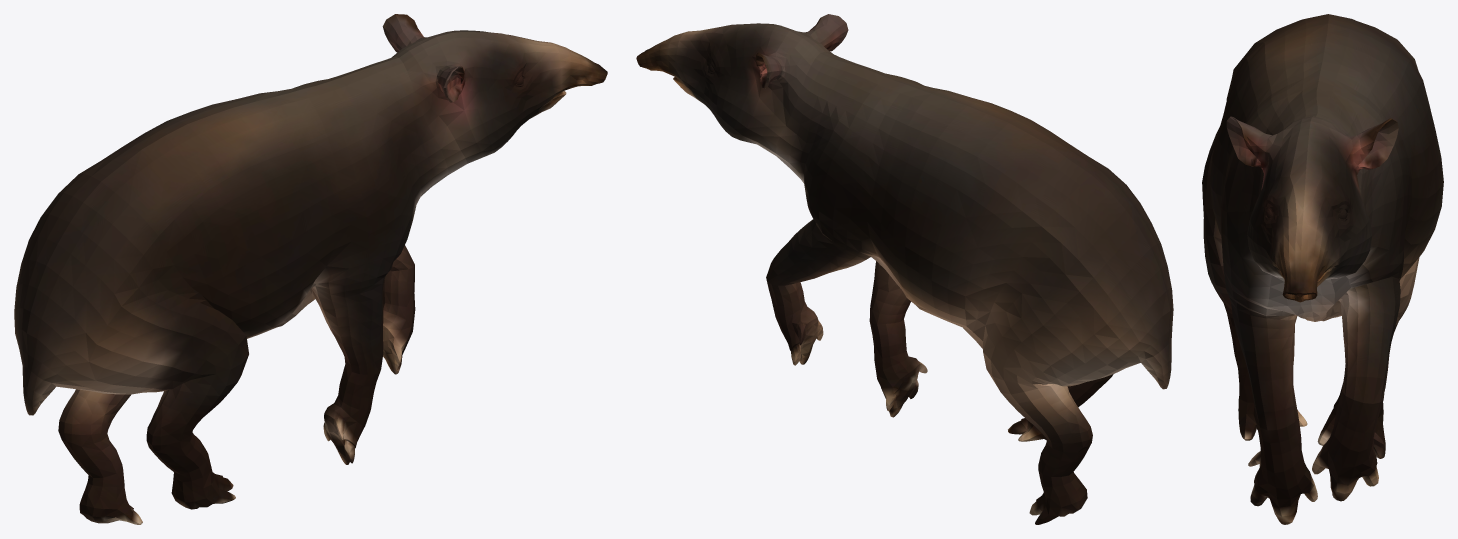
Rendered from The_female_bairds_tapir_swims_and_the_a2aa43eb31be.mesh.glb.
The picture shows the model from 3 angles, left to right: view 1: azimuth 30°, elevation 25°; view 2: azimuth 150°, elevation 25°; view 3: azimuth 270°, elevation 25°; orthographic projection. The views are drawn at different scales.
Parts seen in each view (by area): view 1: root; view 2: root; view 3: root.
Boxes of the visible parts, box(x1,y1,x2,y2) form: root: box(14, 14, 607, 524); root: box(636, 14, 1173, 524); root: box(1202, 14, 1443, 524).
Bounding box in the file's own units: 0.6303 × 0.457 × 0.1982.
Materials: 1 (1 with a texture image).
